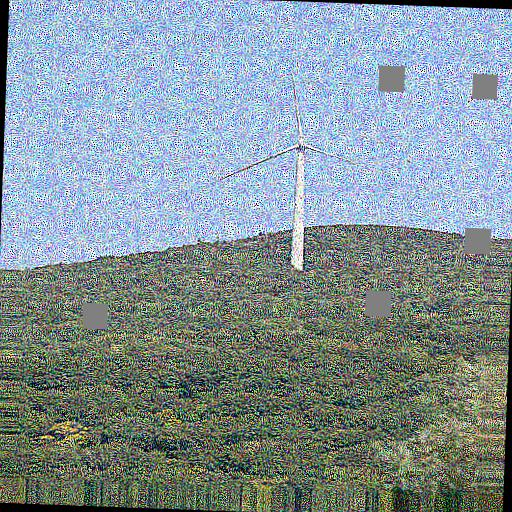wind turbine: (222, 72, 356, 261)
